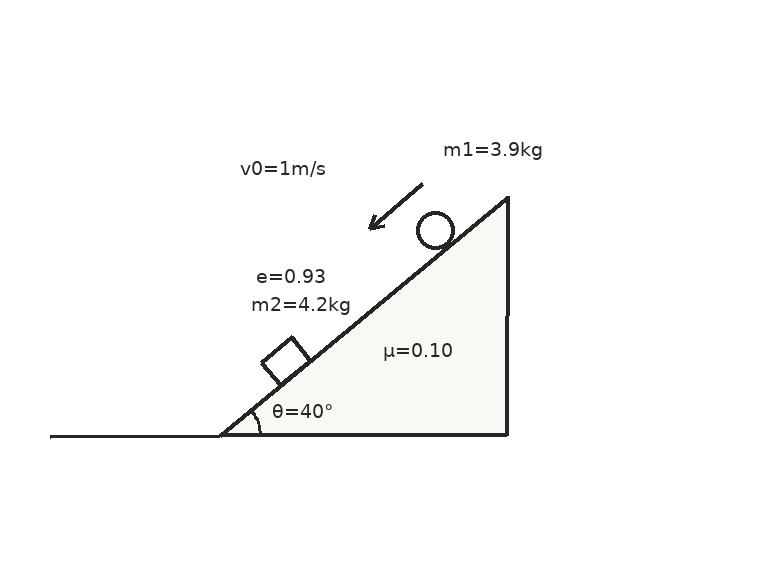ball: (414, 209, 456, 251)
block: (259, 335, 312, 387)
ramp: (218, 193, 508, 437)
